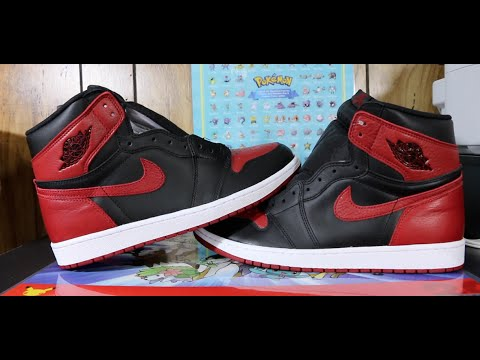Air Jordan 1 Bred: (19, 75, 301, 275), (192, 86, 470, 279)
